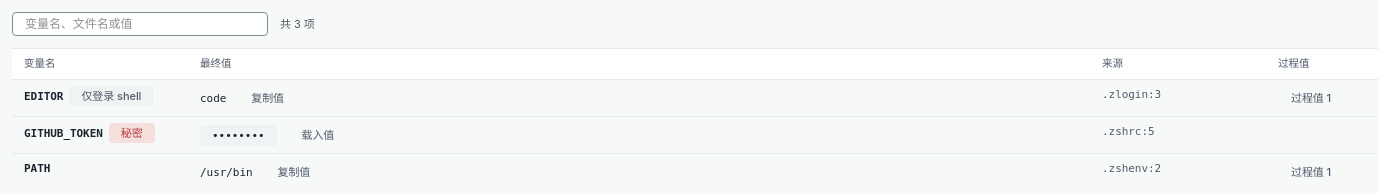
Test: variable search list › clears the search with Escape and with the clear control
The width and height of the screenshot is (1378, 194).
Type "path" into the search field named "搜索变量".
click(140, 24); type("path")  # box [12,12,268,36]
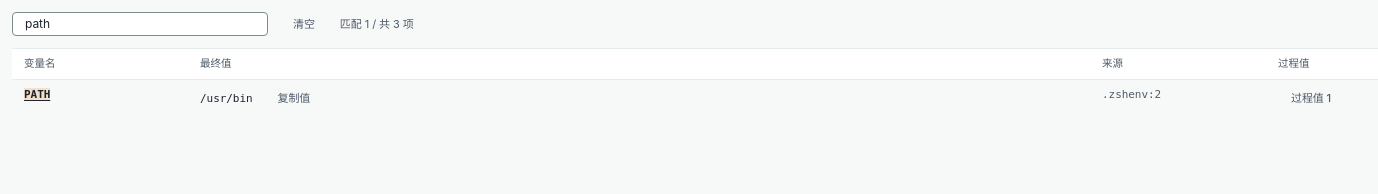
Press Escape in the search field named "搜索变量", box [12,12,268,36]
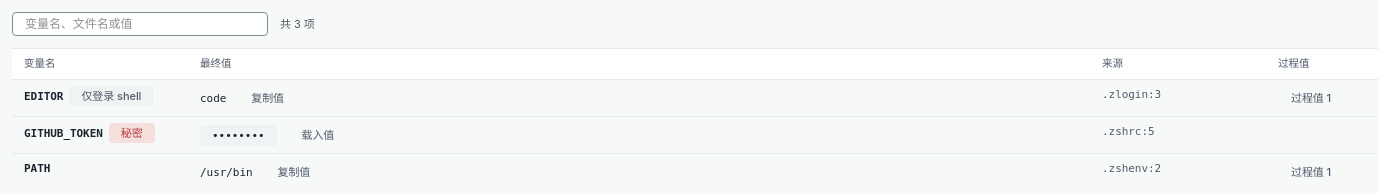
Expected: the search field named "搜索变量" is empty
Type "path" into the search field named "搜索变量".
click(140, 24); type("path")  # box [12,12,268,36]
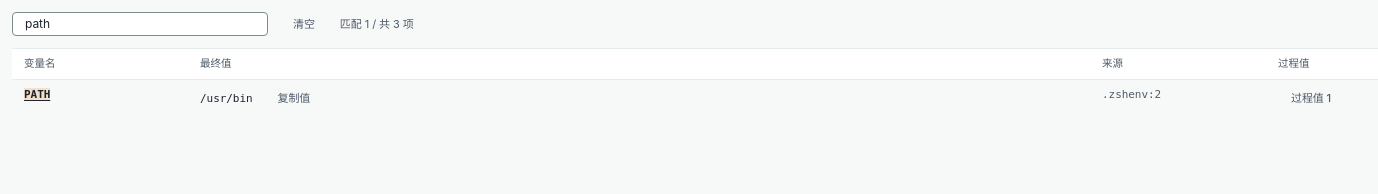
Click the button "清空".
click(304, 24)  # box [280,12,328,36]
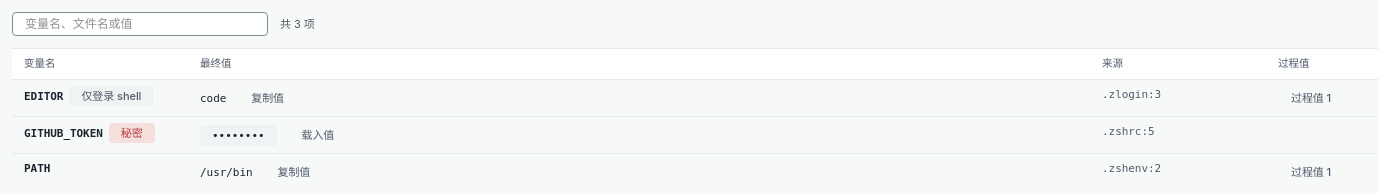
Expected: the search field named "搜索变量" is empty, [12,12,268,36]
